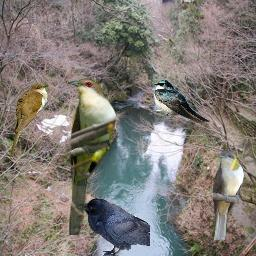Crow: (73, 198, 150, 256)
Cuckoo: (65, 78, 118, 235), (9, 83, 49, 158), (211, 150, 244, 240)
Swallow: (153, 79, 210, 123)
